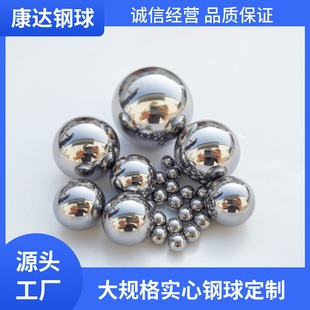ironball: (111, 65, 193, 147), (52, 115, 120, 180), (173, 119, 240, 183), (100, 192, 154, 245), (52, 178, 105, 230), (204, 175, 255, 226), (109, 153, 156, 197), (167, 232, 186, 251), (149, 225, 167, 244), (183, 223, 200, 242), (193, 211, 210, 229), (165, 217, 182, 233), (177, 206, 192, 221), (152, 210, 166, 225)
